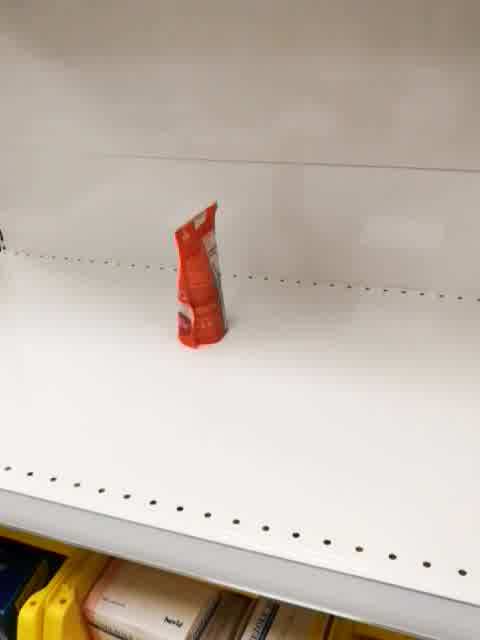whitechia: (173, 197, 231, 351)
